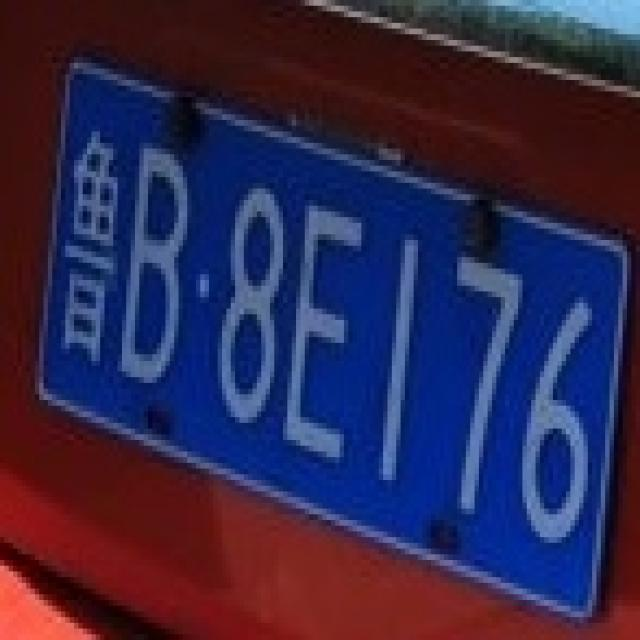1: (352, 206, 436, 492)
6: (505, 268, 610, 538)
7: (422, 228, 531, 526)
8: (200, 160, 292, 429)
B: (96, 114, 196, 383)
E: (266, 177, 374, 469)
